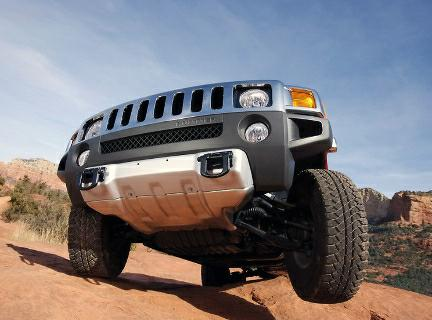悍马-H3: (52, 78, 373, 306)
